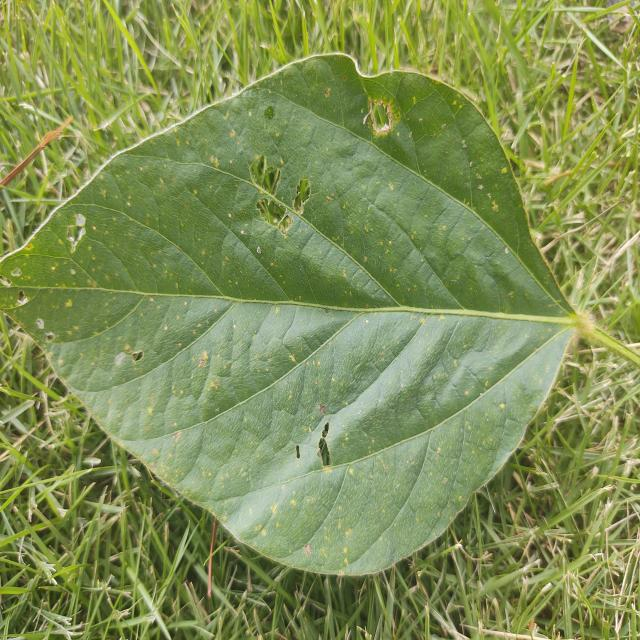Soybean: (0, 52, 582, 581)
downey_mildew: (371, 64, 574, 331), (0, 95, 240, 276), (192, 324, 381, 485), (426, 329, 583, 505), (316, 100, 441, 294), (54, 205, 227, 299), (355, 424, 461, 572), (419, 182, 538, 308), (223, 447, 343, 566), (164, 162, 275, 285), (104, 155, 218, 256), (296, 314, 416, 409), (489, 194, 581, 308), (274, 213, 384, 301), (57, 312, 170, 395), (352, 64, 446, 158), (4, 288, 151, 346), (416, 318, 500, 419), (407, 93, 483, 202), (282, 52, 373, 142), (134, 299, 237, 377), (105, 417, 212, 484), (170, 418, 262, 495), (216, 223, 298, 298), (444, 383, 505, 482), (363, 157, 430, 245), (299, 119, 362, 208), (4, 235, 93, 290), (67, 226, 136, 289), (475, 420, 537, 488), (290, 234, 347, 300), (110, 169, 162, 230)
